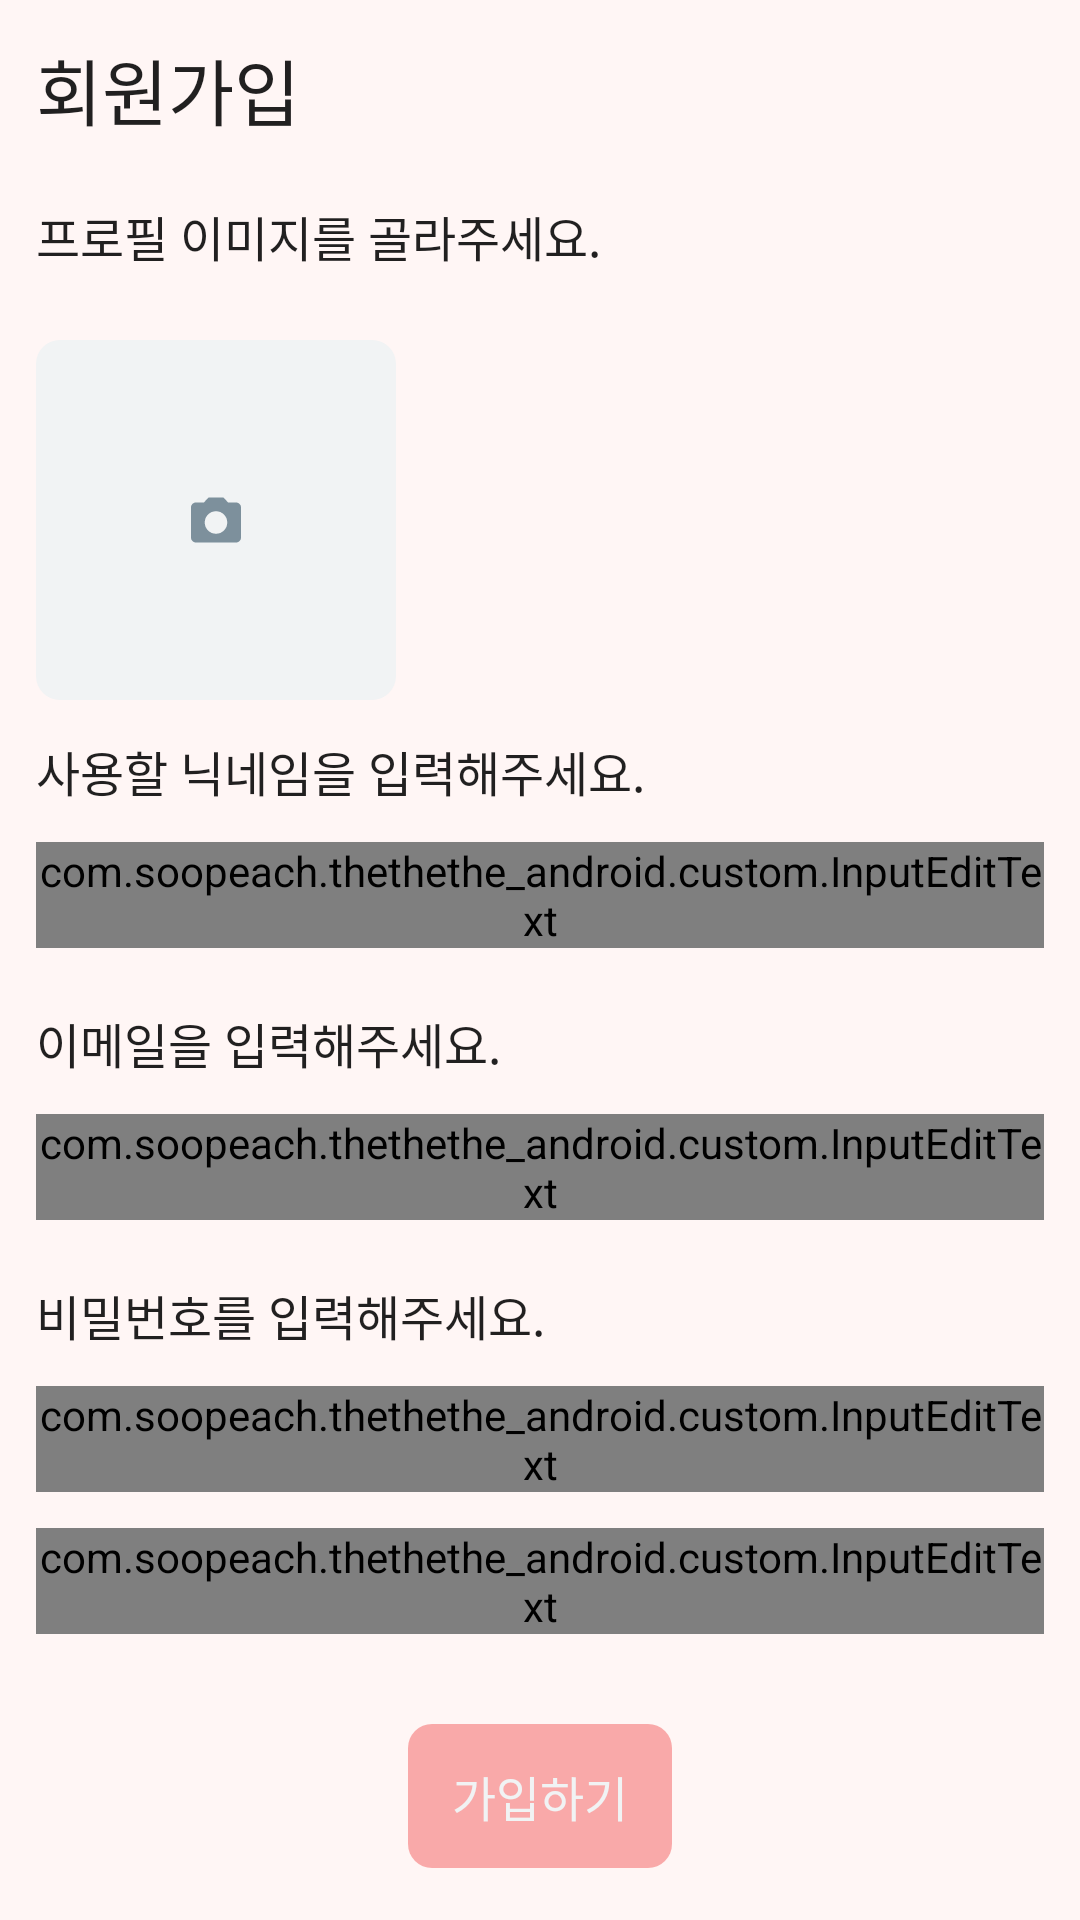

Named icons in this screenshot (1080w x 1920h) and their bounding boxes, (x1, y1, x2, y2):
camera: (191, 497, 241, 543)
